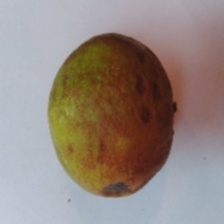guava: (57, 13, 205, 199)
